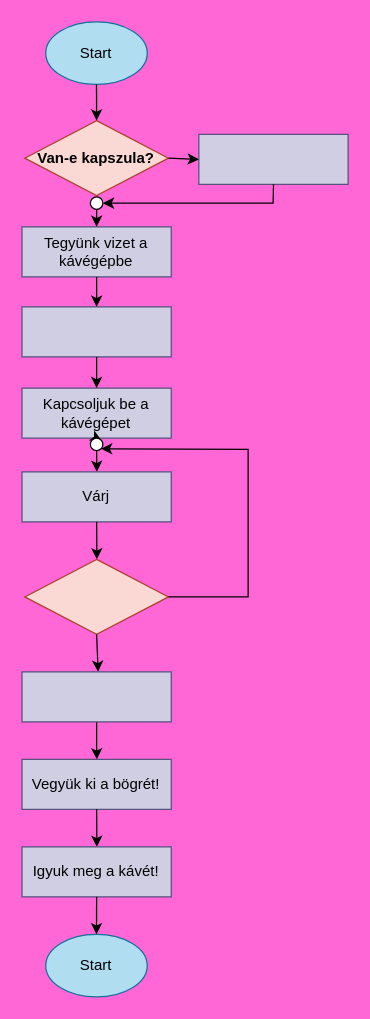
Some shapes in this 370 by 1019 pixel diagram are drawn without their labels. The box of each missing label's shape, as (x1, y1, x2, y2) in pixels:
Forr a víz?: (24, 558, 168, 634)
Kávékapszula vásárlása: (198, 133, 348, 184)
Lefolyt a kávé!: (21, 671, 171, 722)
Tegyük be a kapszulát a kávégépbe: (21, 306, 171, 357)
